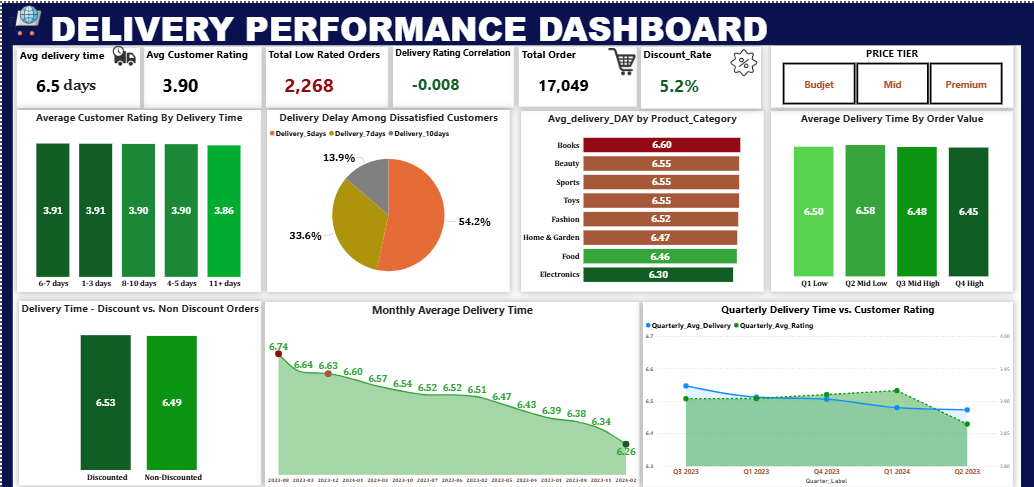

The page's visual inventory and layout, read from the dashboard file:
{"tool":"powerbi","page":{"name":"Delivery Performance Analysis","canvas":[2300,1080],"ordinal":3},"visuals":[{"type":"cardVisual","title":"Avg Customer Rating","fields":{"Data":["Orders.Avg_customer_rating"]},"box":[316,98.4,261.6,137.3],"z":0},{"type":"cardVisual","title":"Total Low Rated Orders","fields":{"Data":["Orders.Low_Rated_Count"]},"box":[588,98.4,272,134.7],"z":1000},{"type":"cardVisual","title":"Delivery Rating Correlation","fields":{"Data":["Orders.Delivery_Rating_Correlaion"]},"box":[870.3,95.8,269.4,137.3],"z":2000},{"type":"shape","box":[0,2.7,24,1078.1],"z":3000},{"type":"shape","box":[0,0,2300,94.5],"z":4000},{"type":"textbox","title":"DELIVERY PERFORMANCE DASHBOARD","box":[102.2,0,1758.2,99.7],"z":5000},{"type":"cardVisual","title":"Avg delivery time","fields":{"Data":["Orders.Avg_delivery_DAY"]},"box":[33.2,99.7,273.4,132.9],"z":6000},{"type":"image","box":[0,0,102.6,72.9],"z":7000},{"type":"columnChart","title":"Average Customer Rating By Delivery Time","fields":{"Category":["Orders.Delvery_Bucket"],"Y":["Orders.Avg_customer_rating"]},"box":[32.4,237.7,542.9,405.2],"z":8000},{"type":"textbox","title":"days","box":[130.3,161,97.1,43.4],"z":9000},{"type":"image","box":[240.2,89.4,63.9,51.1],"z":10000},{"type":"shape","box":[2267.1,0,32.9,1076.7],"z":11000},{"type":"pieChart","title":"Delivery Delay Among Dissatisfied Customers","fields":{"Y":["Orders.Delivery_5days","Orders.Delivery_7days","Orders.Delivery_10days"]},"box":[588.9,237.7,540.2,405.2],"z":12000},{"type":"clusteredBarChart","fields":{"Category":["Orders.Product_Category"],"Y":["Orders.Avg_delivery_DAY"]},"box":[1153.4,240.4,540.2,402.5],"z":13000},{"type":"clusteredColumnChart","title":"Average Delivery Time By Order Value","fields":{"Category":["Orders.Order_Value_Quartile"],"Y":["Orders.Avg_delivery_DAY"]},"box":[1711.1,240.1,538.4,401.9],"z":14000},{"type":"clusteredColumnChart","title":"Delivery Time - Discount vs. Non Discount Orders","fields":{"Category":["Orders.Has_Discount"],"Y":["Orders.Avg_delivery_DAY"]},"box":[38.5,662.1,538.9,410],"z":15000},{"type":"lineChart","title":"Monthly Average Delivery Time","fields":{"Category":["Orders.YEAR_MONTH"],"Y":["Orders.Avg_delivery_DAY"]},"box":[585.2,664.4,833.1,411.4],"z":16000},{"type":"lineChart","title":"Quarterly Delivery Time vs. Customer Rating","fields":{"Category":["Orders.Quarter_Label"],"Y":["Orders.Quarterly_Avg_Delivery"],"Y2":["Orders.Quarterly_Avg_Rating"]},"box":[1426,664.4,822.9,411.4],"z":17000},{"type":"slicer","title":"PRICE TIER","fields":{"Values":["Orders.Price_Tier"]},"box":[1709.5,95.8,538.7,137.3],"z":18000},{"type":"cardVisual","title":"Total Order","fields":{"Data":["Orders.Total_order"]},"box":[1150,98.4,261.6,132.1],"z":19000},{"type":"cardVisual","title":"Discount_Rate","fields":{"Data":["Orders.Discount_rate"]},"box":[1422,98.4,266.8,137.3],"z":20000},{"type":"image","box":[1334.5,101.1,88.5,60.7],"z":21000},{"type":"image","box":[1611.9,99.2,74.4,65.1],"z":22000}]}

Visuals, with their boxes in screenshot pixels (x1, y1, x2, y2), scaled from the page's 2300x1080 canvas onto the 1034x487 screenshot:
"Avg Customer Rating" cardVisual: (142, 44, 260, 106)
"Total Low Rated Orders" cardVisual: (264, 44, 387, 105)
"Delivery Rating Correlation" cardVisual: (391, 43, 512, 105)
shape: (0, 1, 11, 486)
shape: (0, 0, 1033, 43)
"DELIVERY PERFORMANCE DASHBOARD" textbox: (46, 0, 836, 45)
"Avg delivery time" cardVisual: (15, 45, 138, 105)
image: (0, 0, 46, 33)
"Average Customer Rating By Delivery Time" columnChart: (15, 107, 259, 290)
"days" textbox: (59, 73, 102, 92)
image: (108, 40, 137, 63)
shape: (1019, 0, 1033, 486)
"Delivery Delay Among Dissatisfied Customers" pieChart: (265, 107, 508, 290)
clusteredBarChart - Orders.Product_Category x Orders.Avg_delivery_DAY: (519, 108, 761, 290)
"Average Delivery Time By Order Value" clusteredColumnChart: (769, 108, 1011, 289)
"Delivery Time - Discount vs. Non Discount Orders" clusteredColumnChart: (17, 299, 260, 483)
"Monthly Average Delivery Time" lineChart: (263, 300, 638, 485)
"Quarterly Delivery Time vs. Customer Rating" lineChart: (641, 300, 1011, 485)
"PRICE TIER" slicer: (769, 43, 1011, 105)
"Total Order" cardVisual: (517, 44, 635, 104)
"Discount_Rate" cardVisual: (639, 44, 759, 106)
image: (600, 46, 640, 73)
image: (725, 45, 758, 74)
